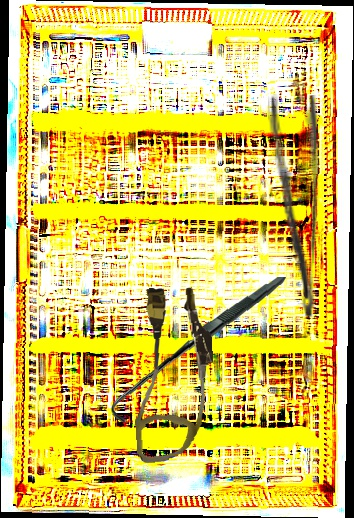Cannula: (126, 284, 220, 464)
Dressing Forceps: (264, 94, 321, 318)
Hook Surgical: (110, 268, 287, 431)
